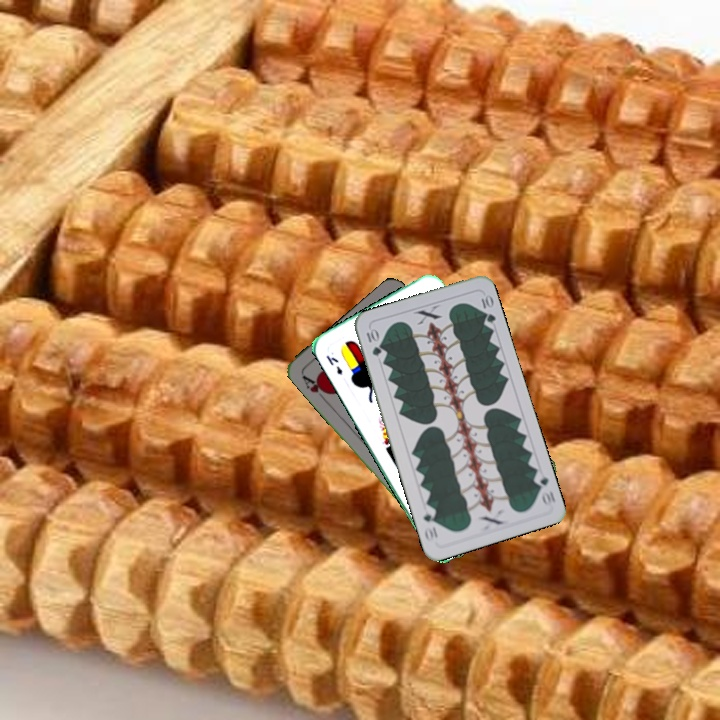EK: (322, 351, 345, 378)
G10: (530, 468, 558, 508), (362, 325, 384, 359)
HA: (298, 371, 332, 404)
